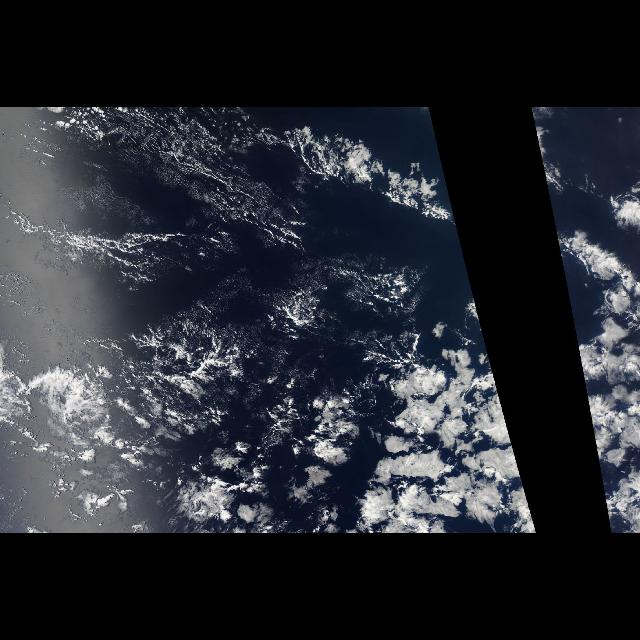Flower: (288, 291, 538, 533), (566, 291, 640, 533)
